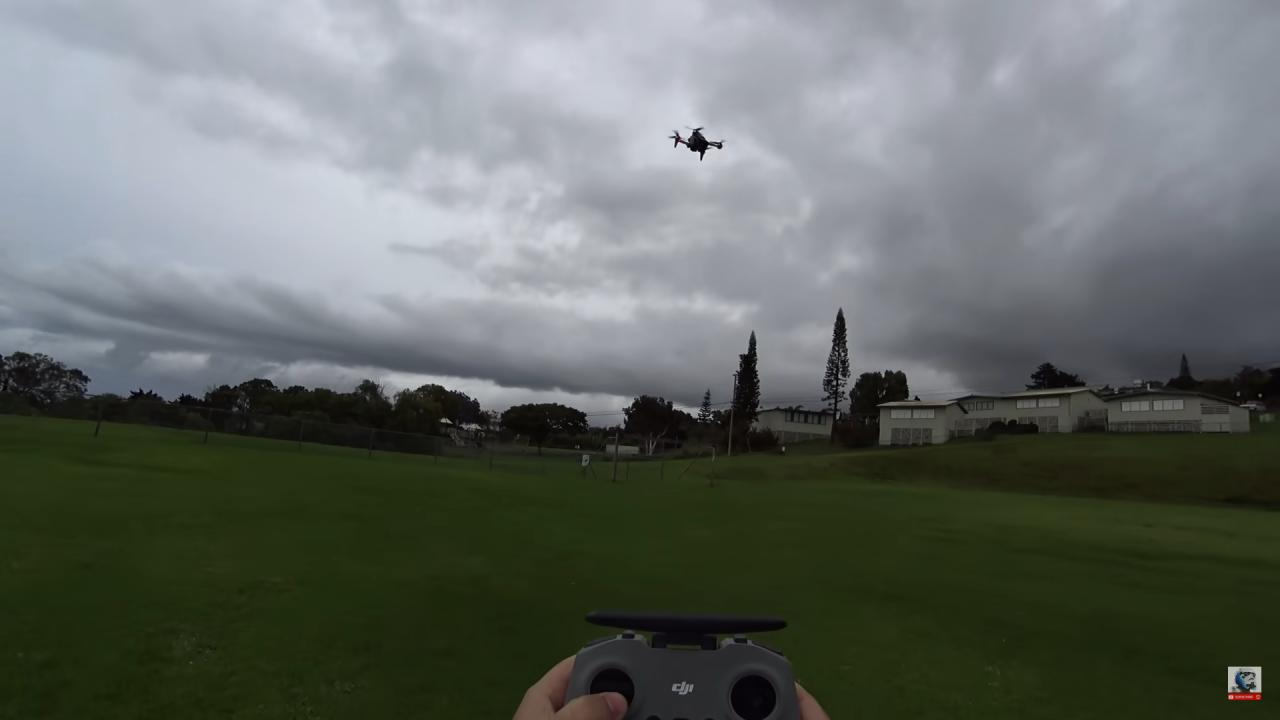Drone: (660, 120, 731, 168)
